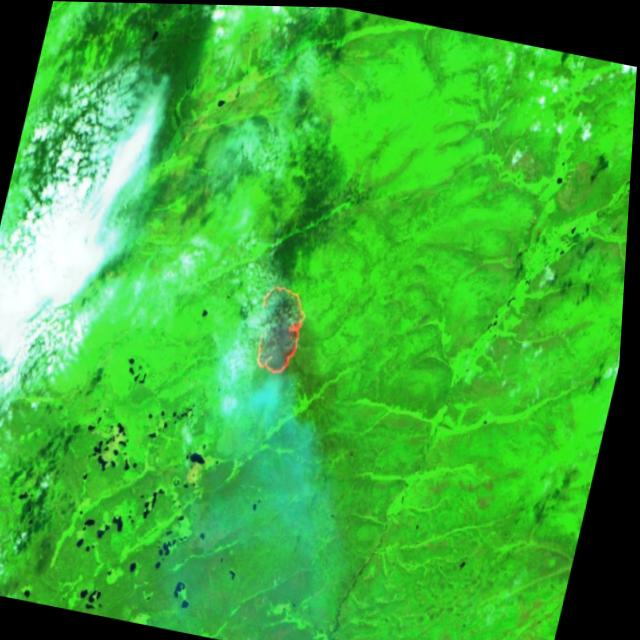fire: (237, 264, 324, 387)
